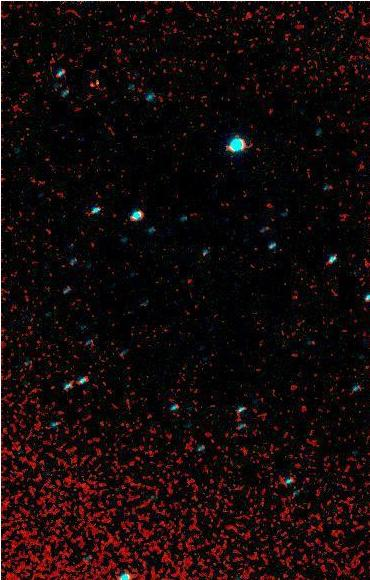star: (78, 70, 108, 100)
